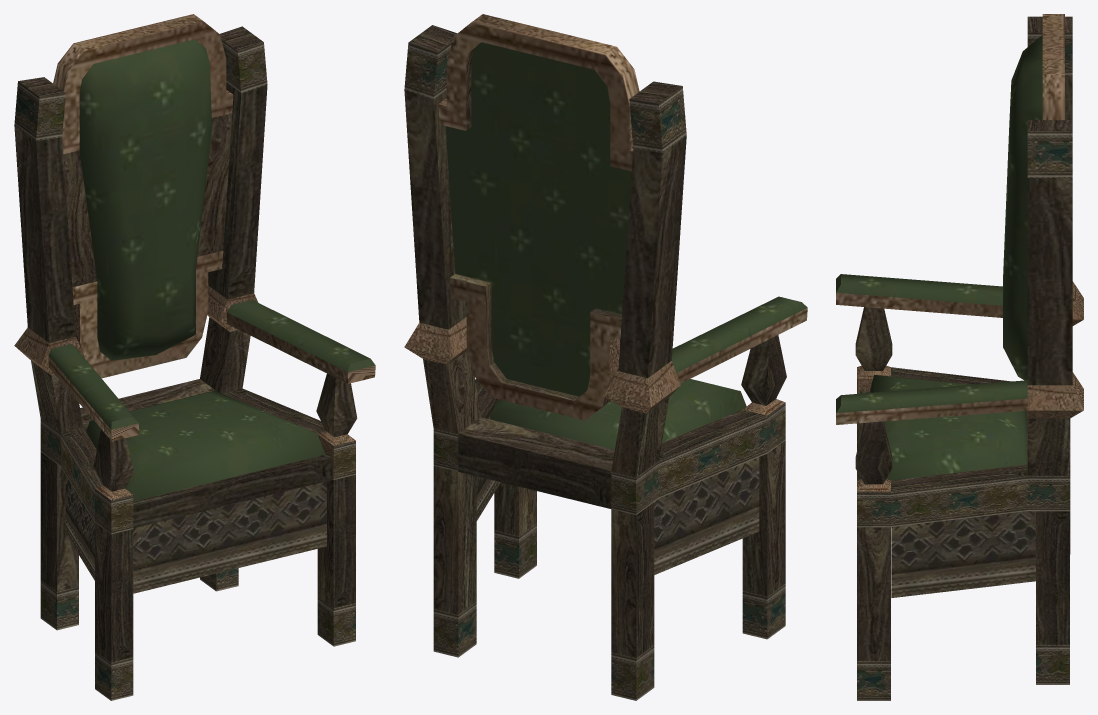
Rendered from Green_Chair.obj.
The picture shows the model from 3 angles, left to right: view 1: azimuth 30°, elevation 25°; view 2: azimuth 150°, elevation 25°; view 3: azimuth 270°, elevation 25°; orthographic projection. The views are drawn at different scales.
Visible parts, largest first — view 1: Green_Chair; view 2: Green_Chair; view 3: Green_Chair.
Part boxes in pixels (x1=…): Green_Chair: x1=14, y1=14, x2=375, y2=700; Green_Chair: x1=404, y1=14, x2=807, y2=700; Green_Chair: x1=836, y1=14, x2=1083, y2=700.
Bounding box in the file's own units: 1.1 × 2.26 × 0.8559.
